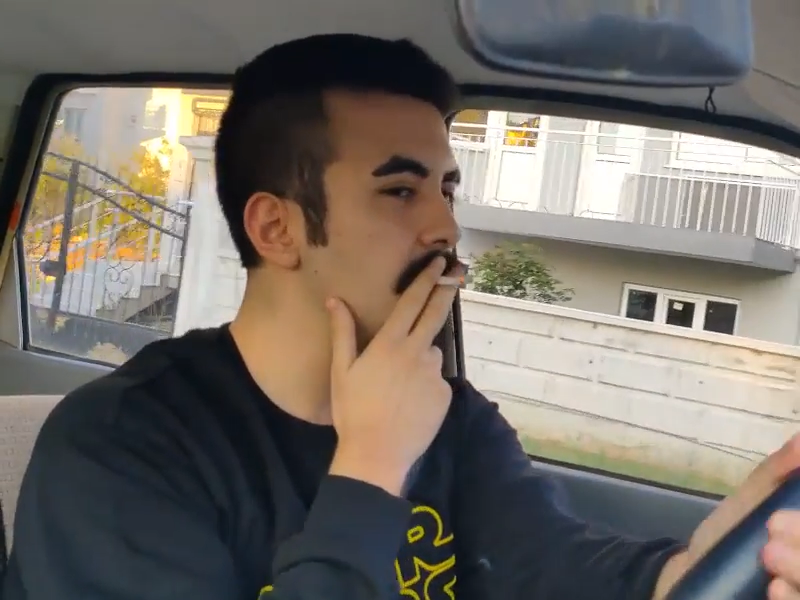sigara: (432, 271, 479, 290)
